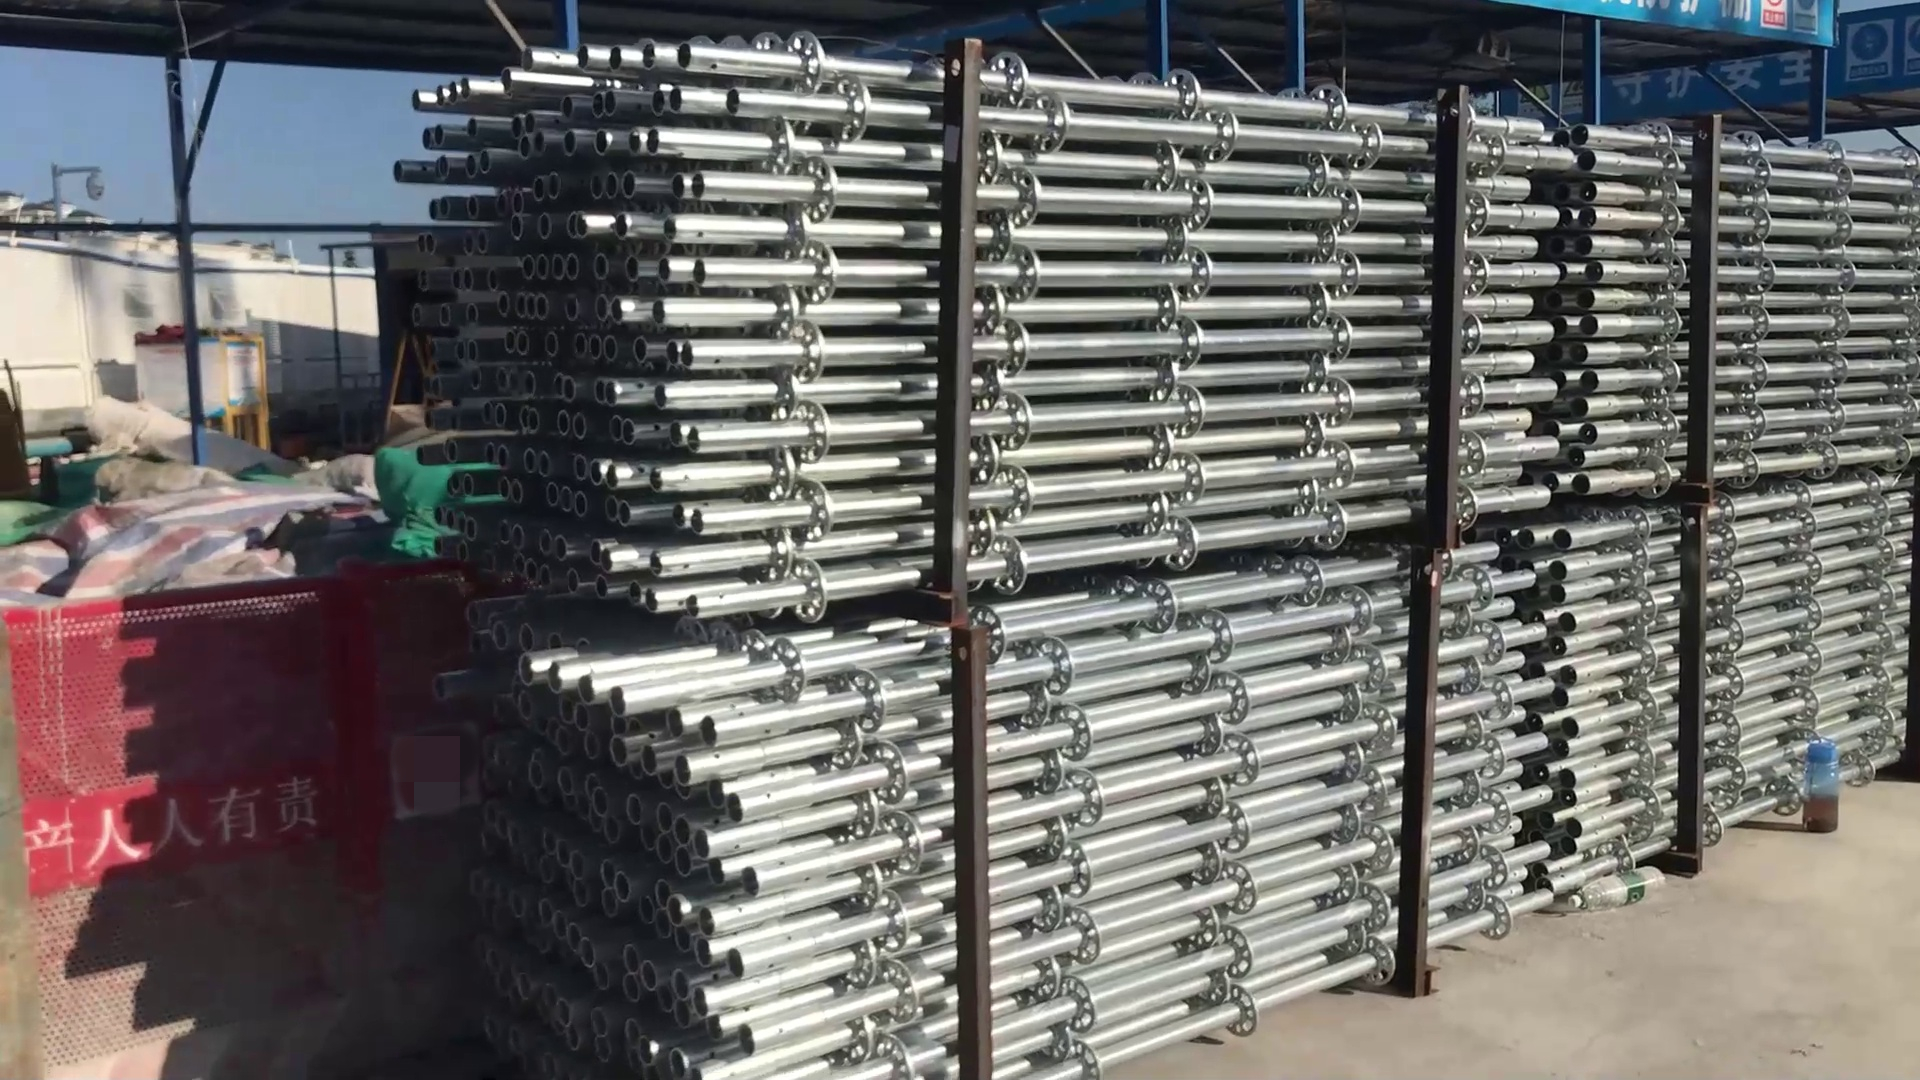fence: (5, 568, 477, 1080)
scaffold: (431, 41, 1920, 1079)
slogan: (1505, 36, 1820, 113), (1596, 1, 1836, 40), (1841, 13, 1896, 88)
